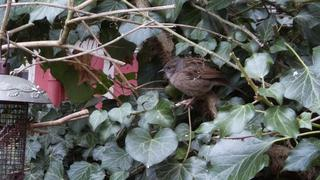dunnock: (157, 57, 250, 109)
